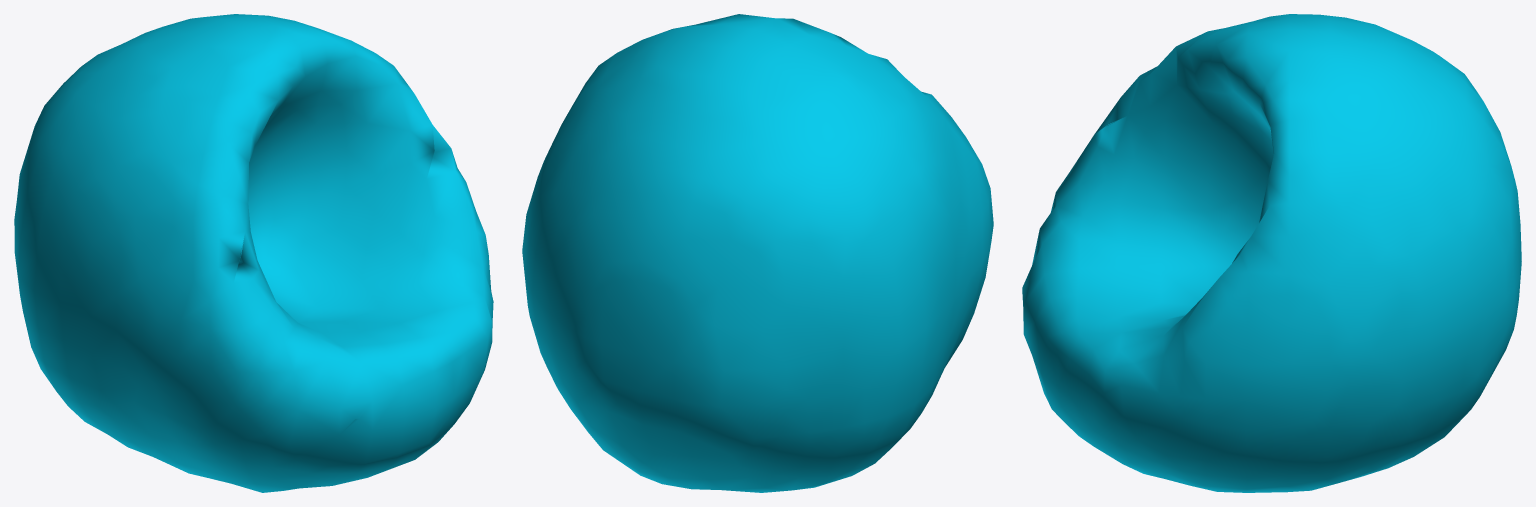
Rendered from Chair2.fbx.
The picture shows the model from 3 angles, left to right: view 1: azimuth 30°, elevation 25°; view 2: azimuth 150°, elevation 25°; view 3: azimuth 270°, elevation 25°; orthographic projection. The views are drawn at different scales.
Visible parts, largest first — view 1: Cube.002; view 2: Cube.002; view 3: Cube.002.
Boxes of the visible parts, x1,y1,x2,y2 form: Cube.002: (14,14,493,492); Cube.002: (522,14,993,492); Cube.002: (1022,14,1521,492).
Bounding box in the file's own units: 683 × 656 × 742.
